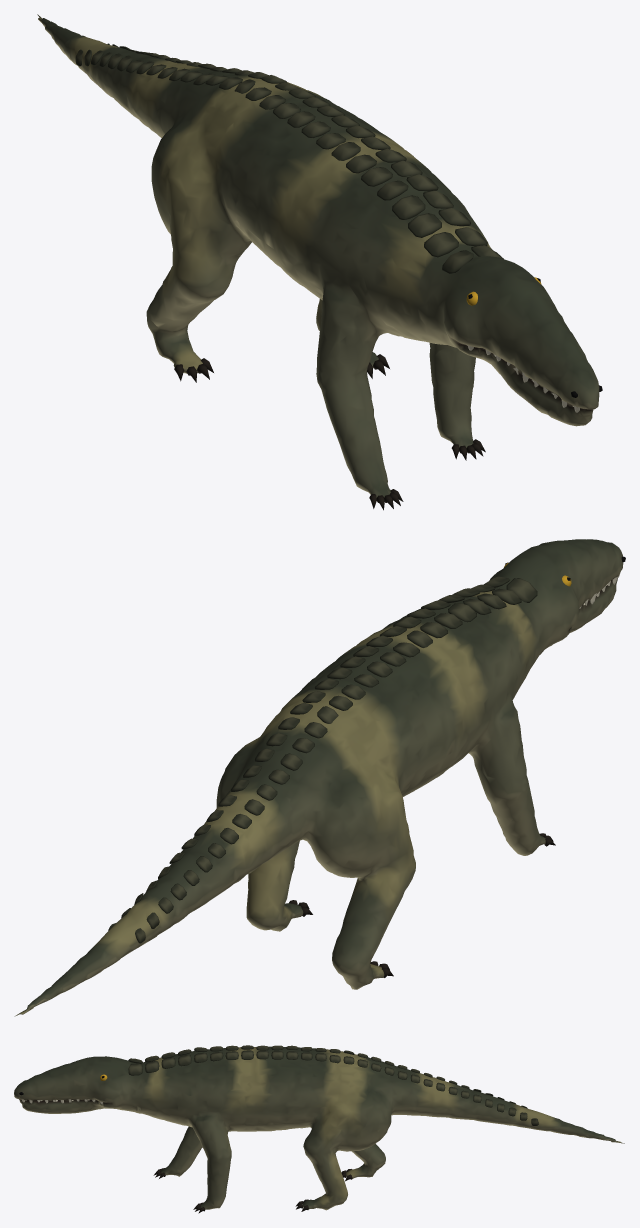
The model's file is Saurosuchus.fbx.
3 views of the same model, one above another, from view 1: azimuth 30°, elevation 25°; view 2: azimuth 150°, elevation 25°; view 3: azimuth 270°, elevation 25° (orthographic). The views are drawn at different scales.
Parts seen in each view (by area): view 1: Saurosuchus; view 2: Saurosuchus; view 3: Saurosuchus.
Part boxes in pixels (x1,y1,x2,y2): Saurosuchus: [37, 14, 602, 510]; Saurosuchus: [14, 539, 625, 1016]; Saurosuchus: [14, 1045, 624, 1213].
Bounding box in the file's own units: 0.3618 × 0.5311 × 2.02.
